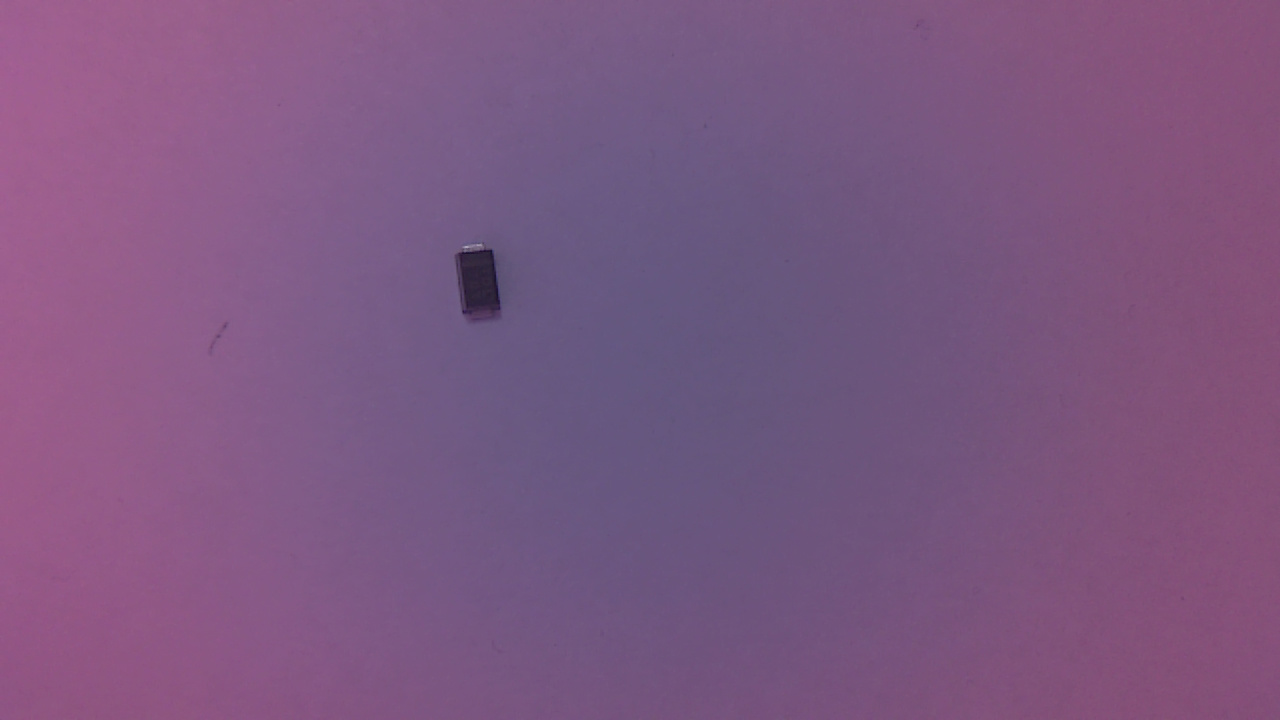Diode: (458, 244, 510, 330)
